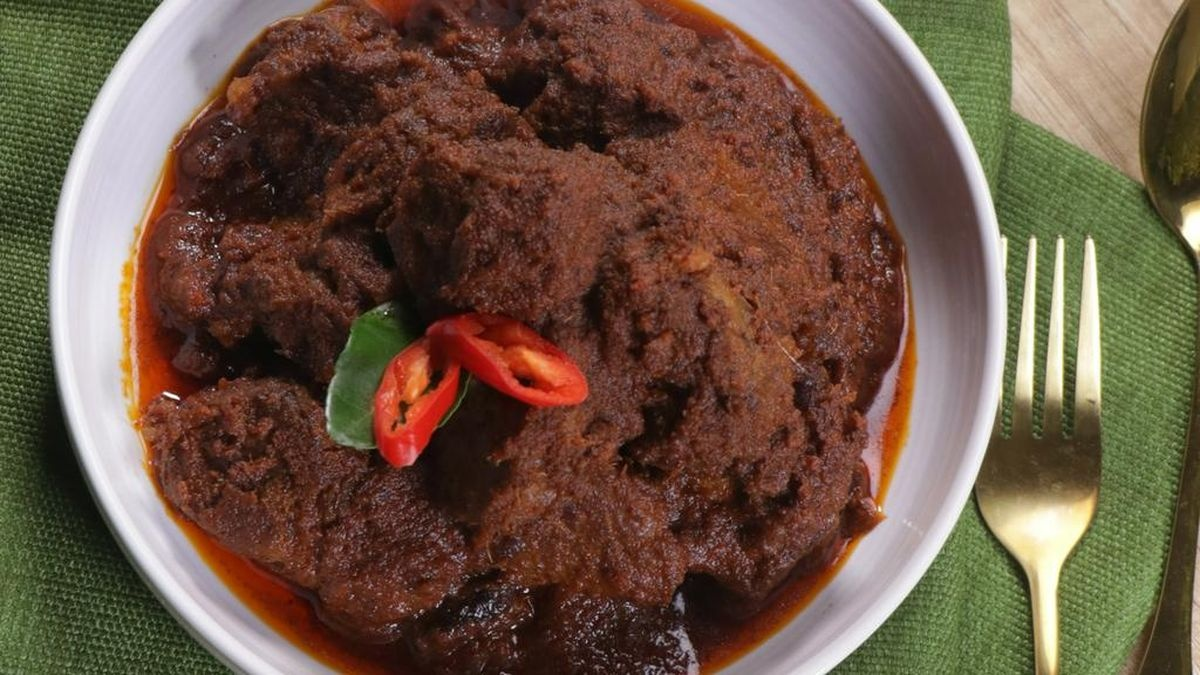rendang: (171, 14, 899, 662)
